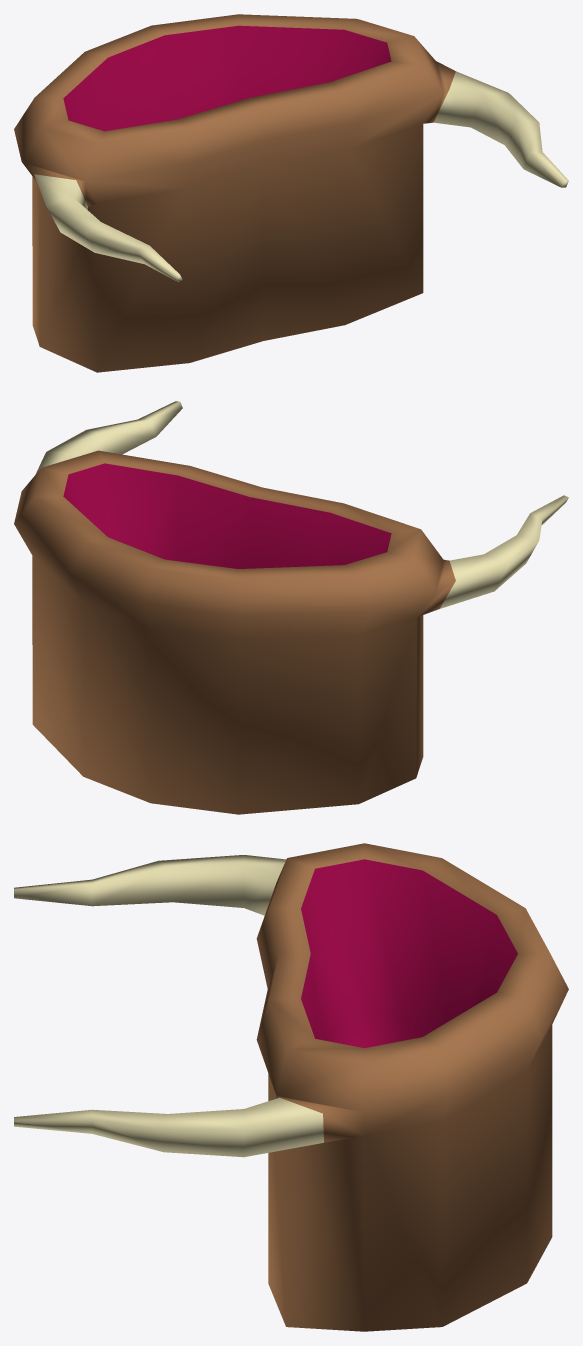
File: Carpe Diem.fbx
3 renders of one model, top to bottom at view 1: azimuth 30°, elevation 25°; view 2: azimuth 150°, elevation 25°; view 3: azimuth 270°, elevation 25°, orthographic. The views are drawn at different scales.
Visible parts, largest first — view 1: Carpe Diem - Haskipend; view 2: Carpe Diem - Haskipend; view 3: Carpe Diem - Haskipend.
Boxes of the visible parts, bbox=[...] form: Carpe Diem - Haskipend: bbox=[14, 14, 568, 372]; Carpe Diem - Haskipend: bbox=[14, 401, 568, 814]; Carpe Diem - Haskipend: bbox=[14, 843, 568, 1331].
Size of the model in its own units: 94.17 by 45.4 by 80.49.
